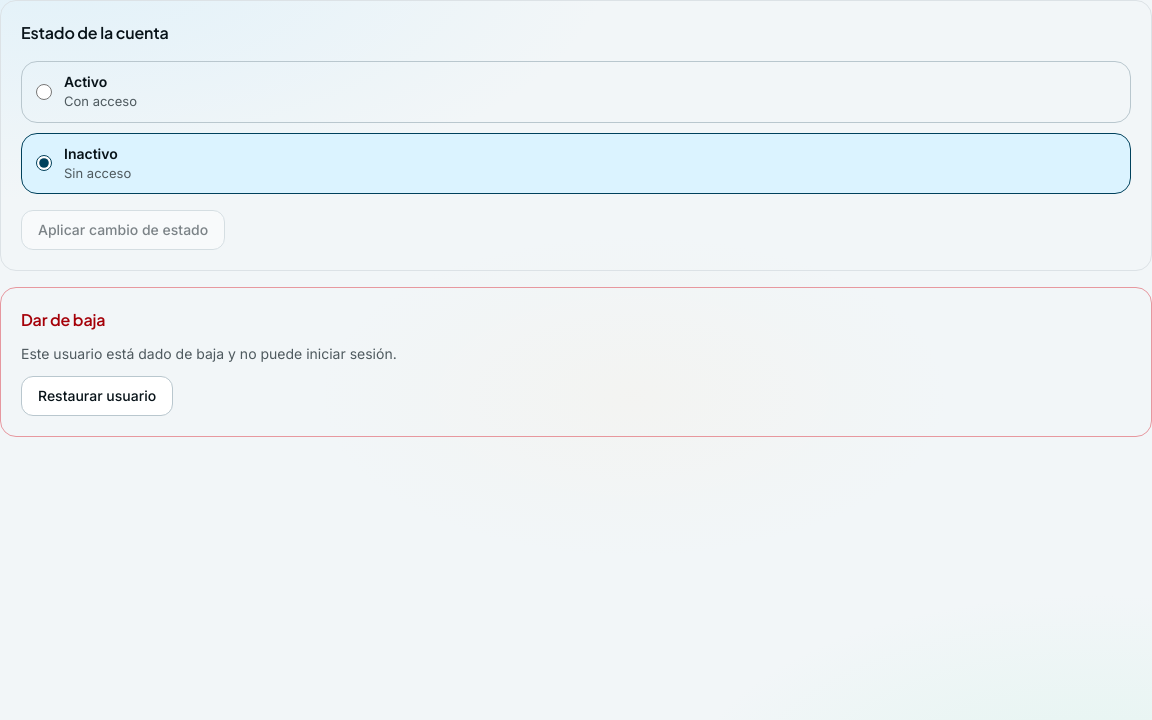
EditarUsuarioAcceso › a un usuario dado de baja se le ofrece "Restaurar usuario" y no "Dar de baja…", y restaurar confirma y aplica ACTIVO
The image size is (1152, 720).
Expected: the radio button labelled "Inactivo" is shown, [36,155,52,171]
Expected: the text "Este usuario está dado de baja y no puede iniciar sesión." is shown, [21,344,397,364]
Click the button "Restaurar usuario".
click(97, 396)  # box [21,376,173,416]
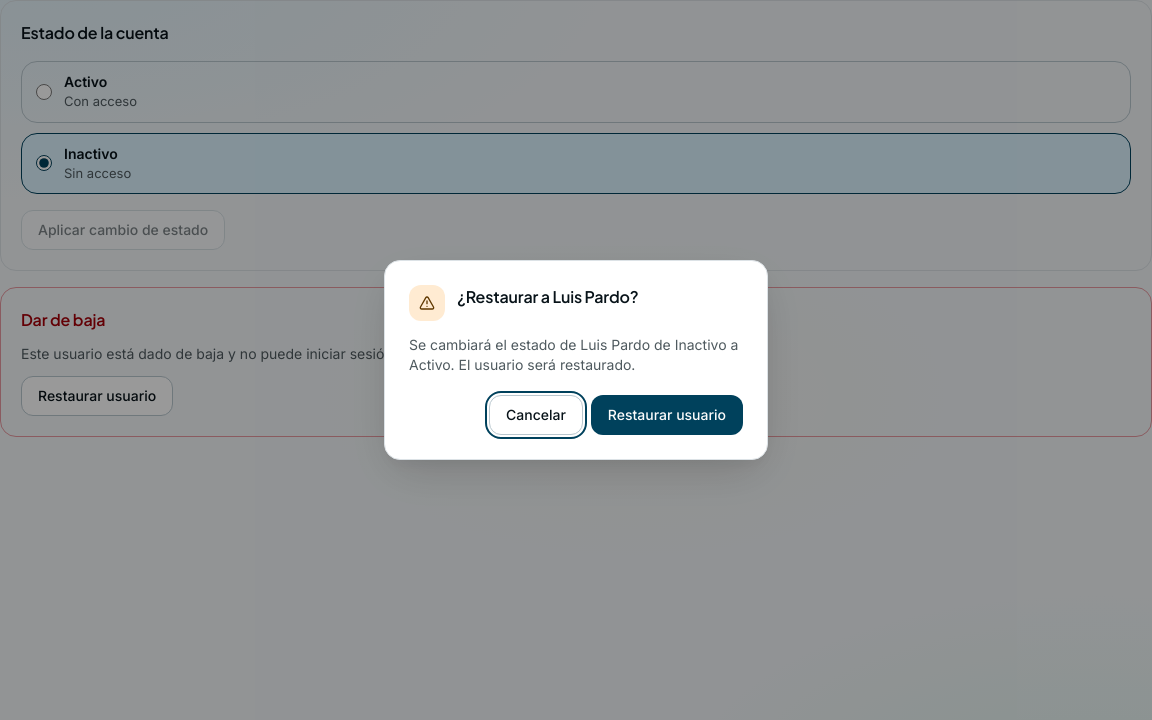
Click the button "Restaurar usuario".
click(667, 415)  # box [591,395,743,435]
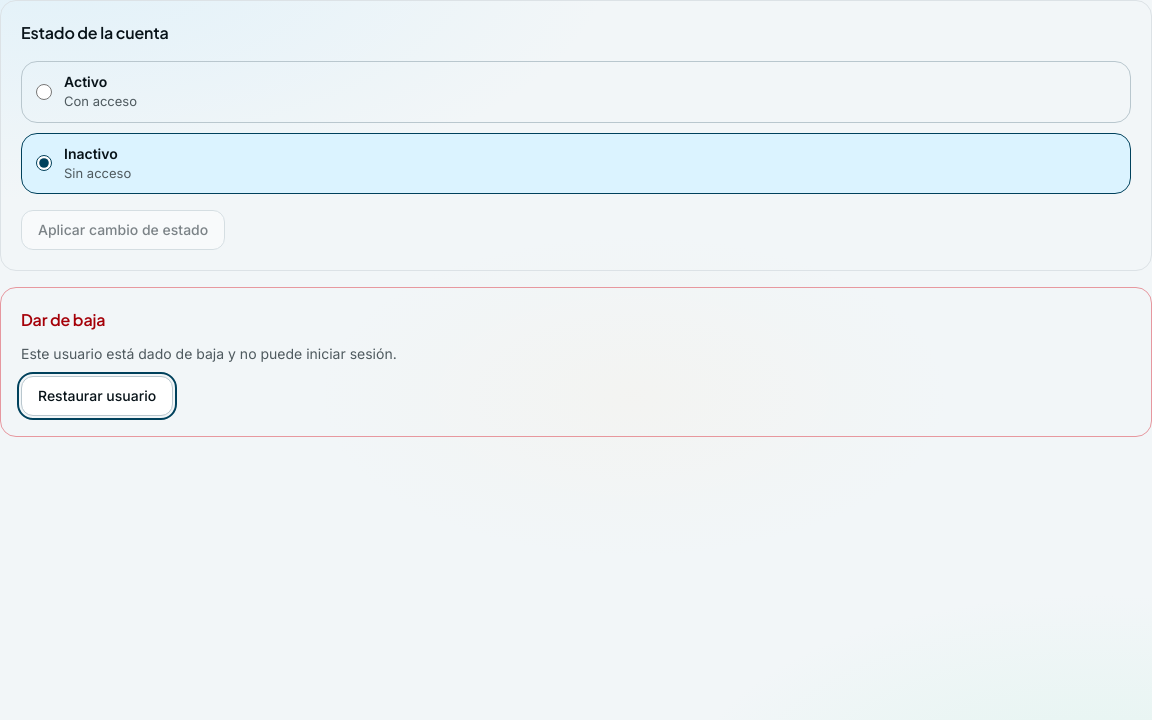
Result: the dialog is gone
